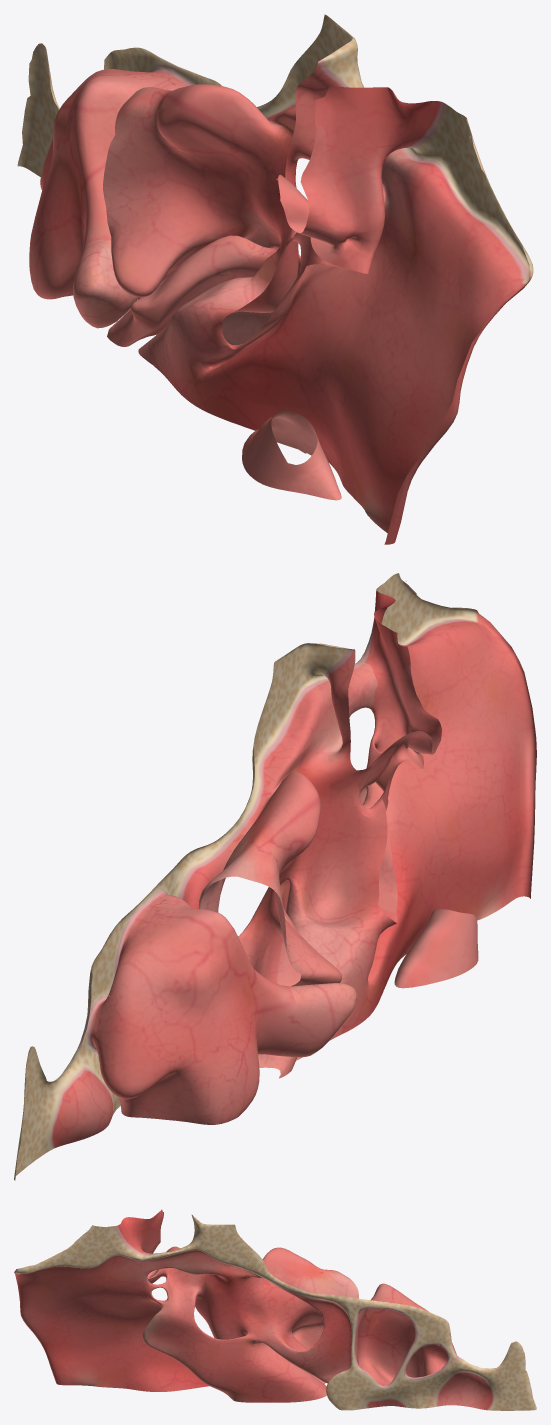
File: Nose_data_uperpart.fbx
3 views of the same model, one above another, from view 1: azimuth 30°, elevation 25°; view 2: azimuth 150°, elevation 25°; view 3: azimuth 270°, elevation 25° (orthographic). The views are drawn at different scales.
Parts seen in each view (by area): view 1: nose_data_Z; view 2: nose_data_Z; view 3: nose_data_Z.
Part boxes in pixels (x1,y1,x2,y2): nose_data_Z: (17,14,533,544); nose_data_Z: (14,573,536,1180); nose_data_Z: (14,1209,536,1410).
Bounding box in the file's own units: 1.77 × 3.67 × 9.3.
1 material, 1 textured.
